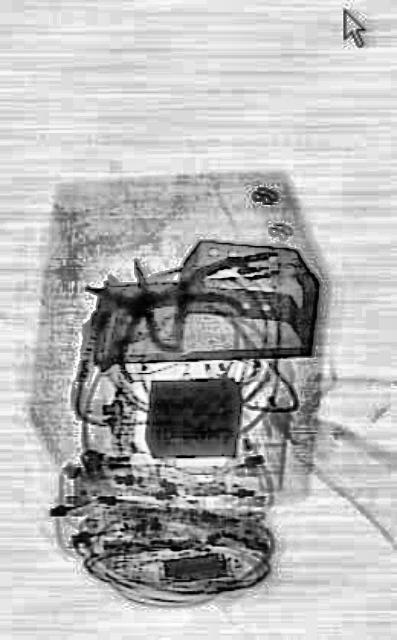Pliers: (70, 180, 244, 434)
